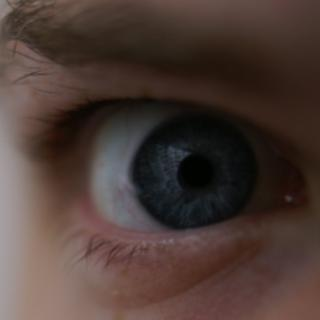pupil: (177, 152, 216, 190)
